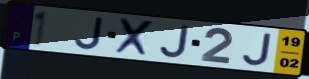1: (32, 9, 53, 49)
2: (199, 26, 236, 66)
J: (241, 32, 275, 67), (158, 24, 191, 60), (73, 15, 106, 51)
X: (114, 17, 157, 59)
